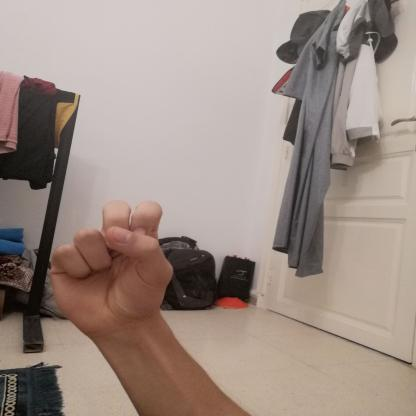QAAF: (36, 192, 188, 346)
